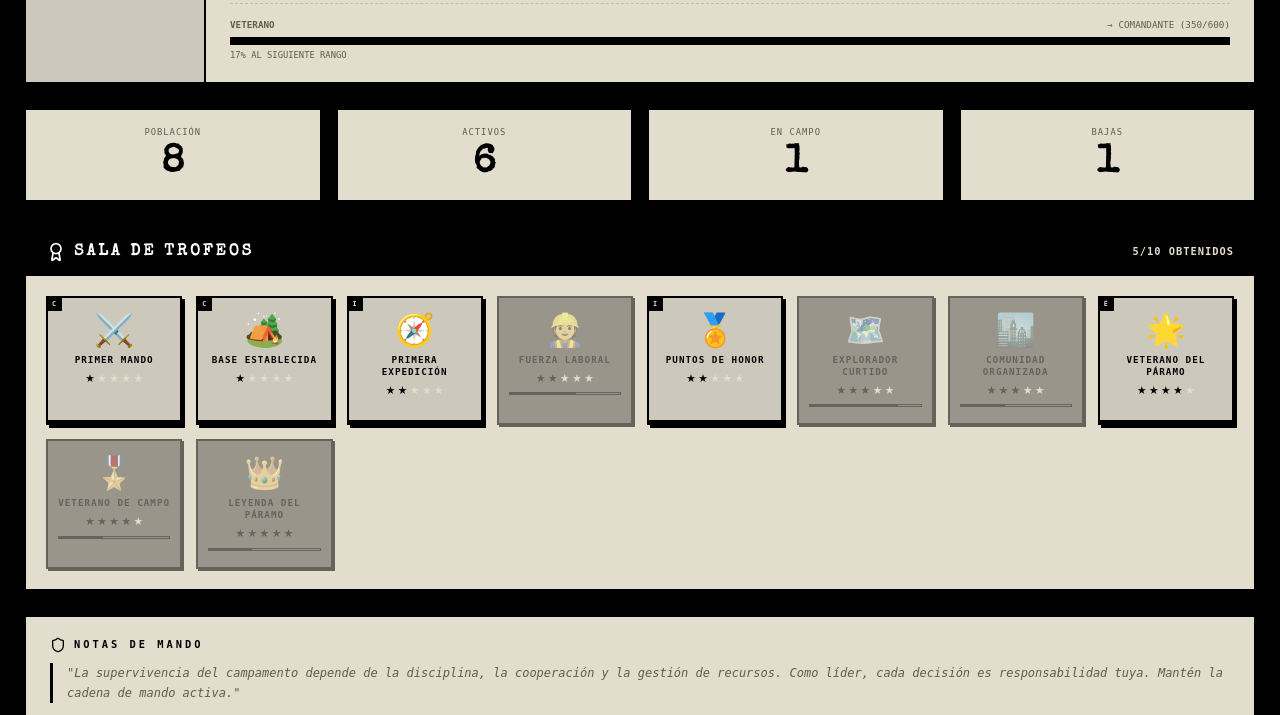
Scenario: ProfileView Component › opens a trophy detail modal when clicking a trophy, and closes it
The width and height of the screenshot is (1280, 715).
(page scrolled)
Note: Click it to open the modal
Click the button "C ⚔️ PRIMER MANDO ★ ★ ★ ★ ★" at (114, 360), box [46,296,182,425]
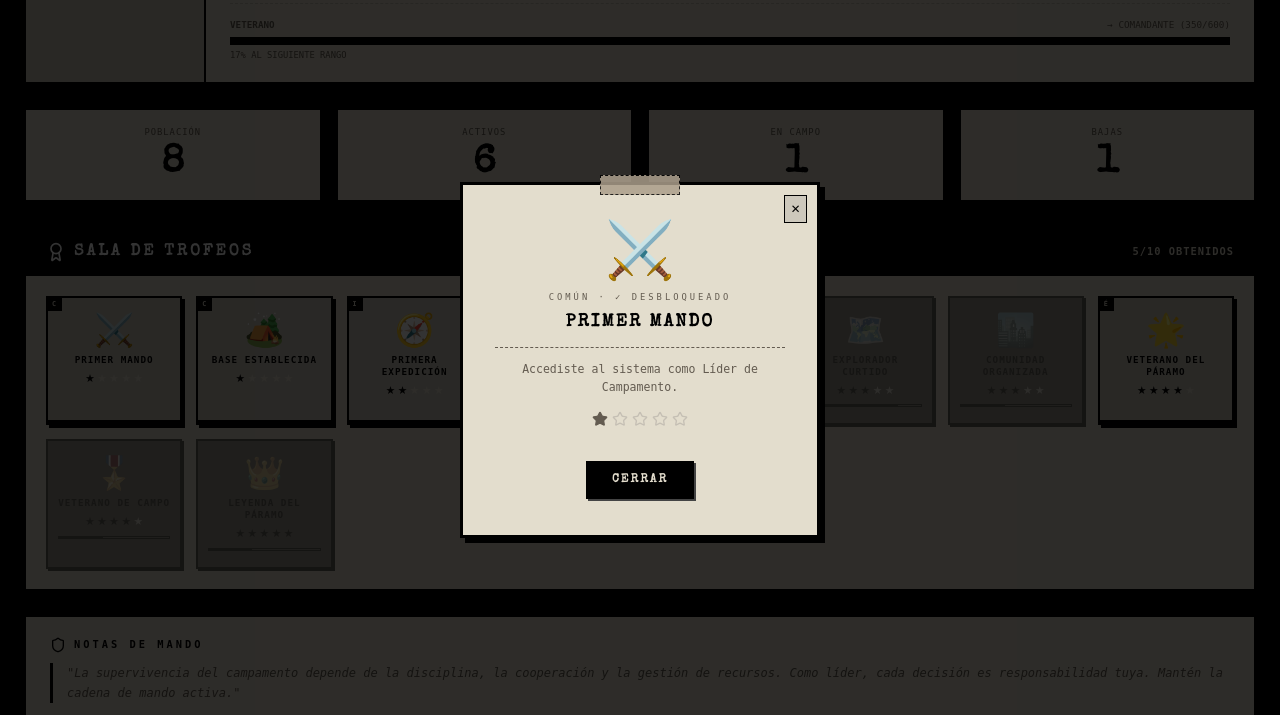
Result: the text "COMÚN · ✓ DESBLOQUEADO" is shown at [549,292,731,302]
Result: the text "Accediste al sistema como Líder de Campamento." is shown at [522,362,758,394]
Note: Close the modal via the '✕' close button
Click the button "✕" at (796, 209), box [784,195,807,223]
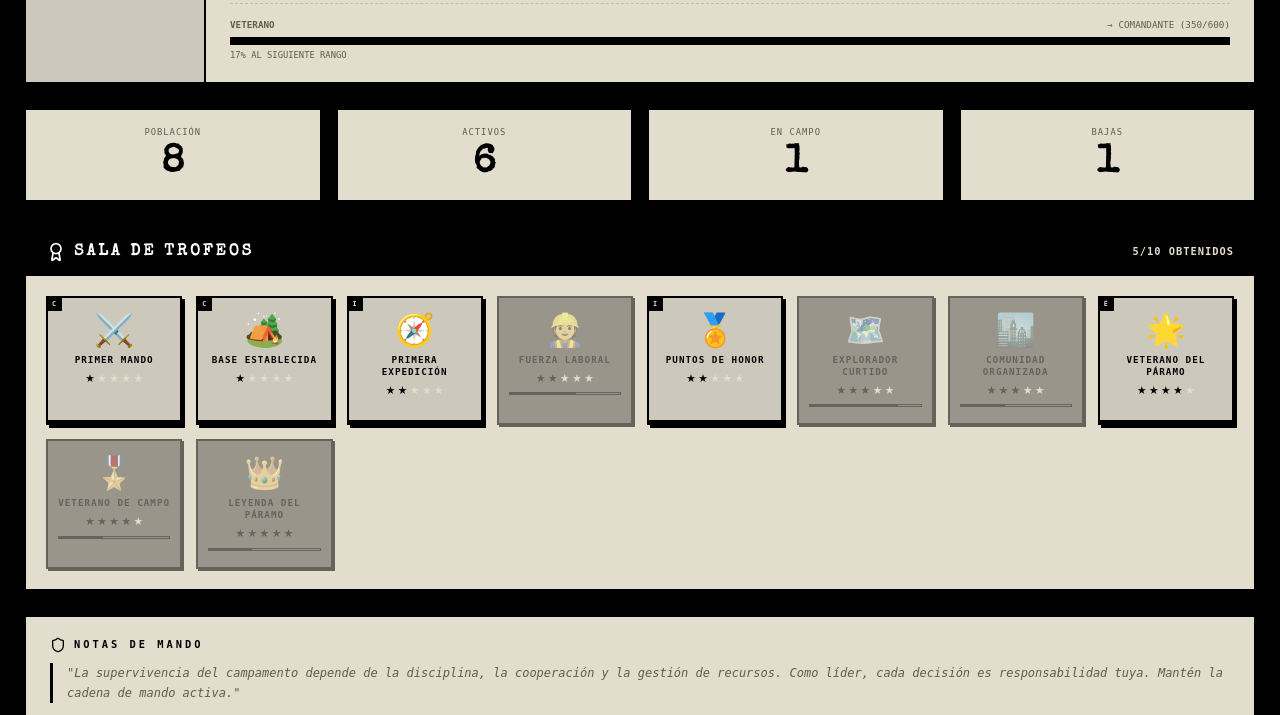
Result: the text "Accediste al sistema como Líder de Campamento." is gone
